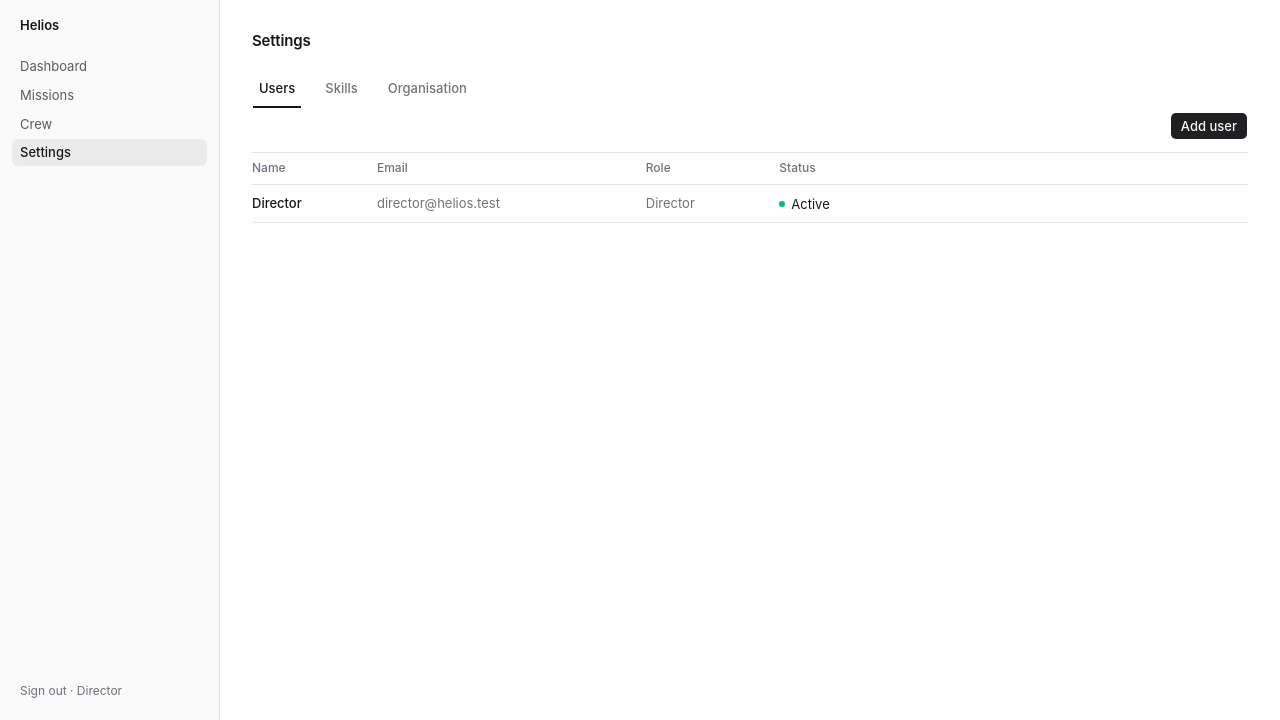
Test case: settings › shows a field-level validation error inline on the organisation tab
The width and height of the screenshot is (1280, 720).
Click the tab "Organisation" at [427, 88], box [381,72,474,104]
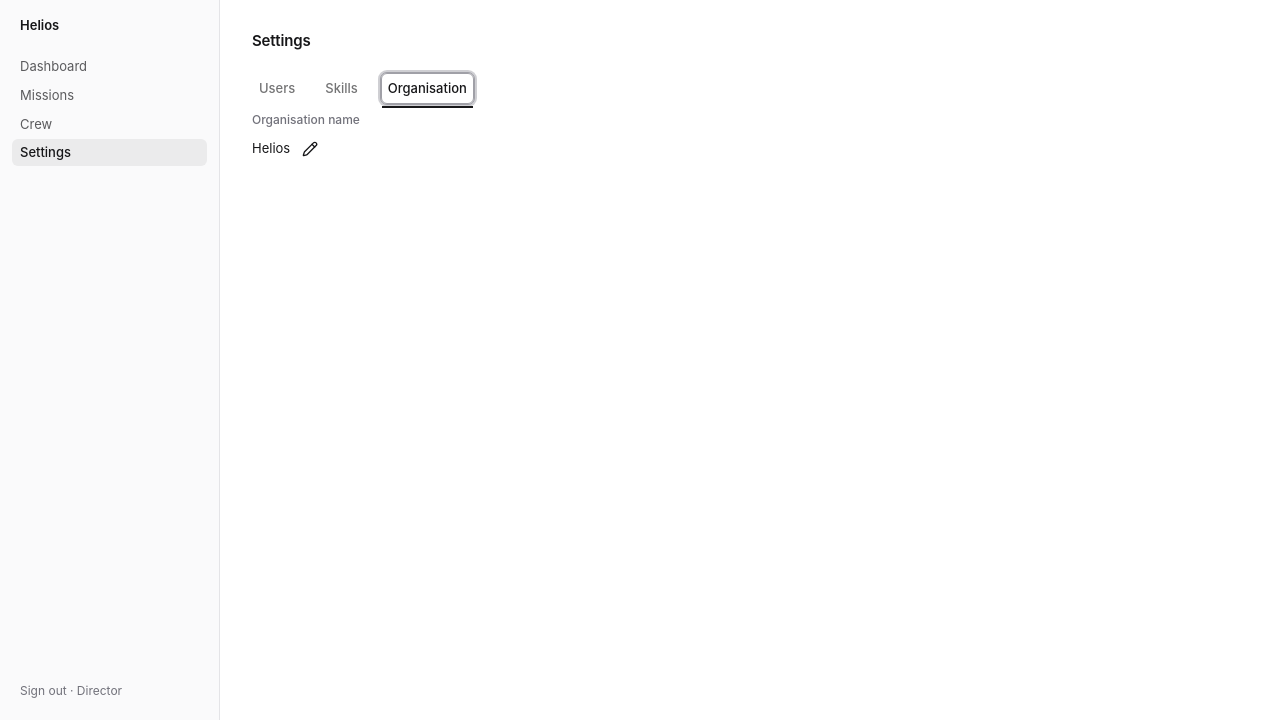
Click the button named "edit organisation name" at [310, 149], box [298,137,322,161]
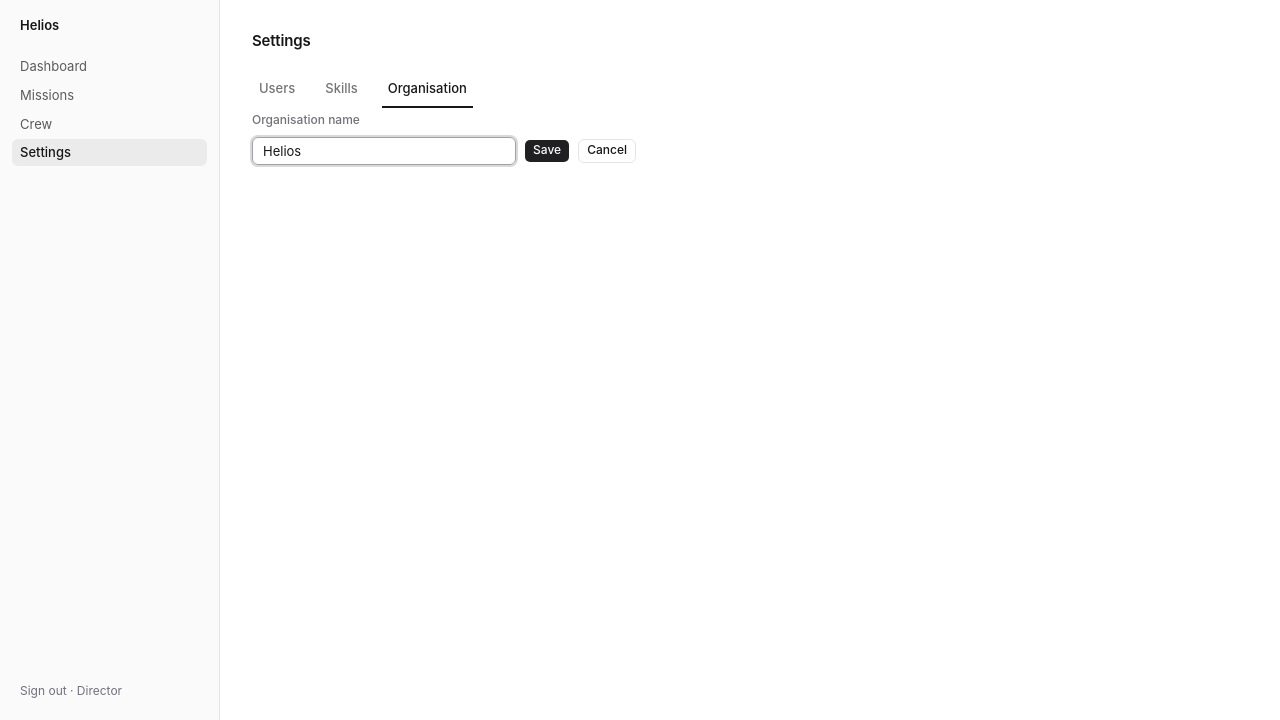
Click the button "Save" at [547, 151], box [524,139,570,163]
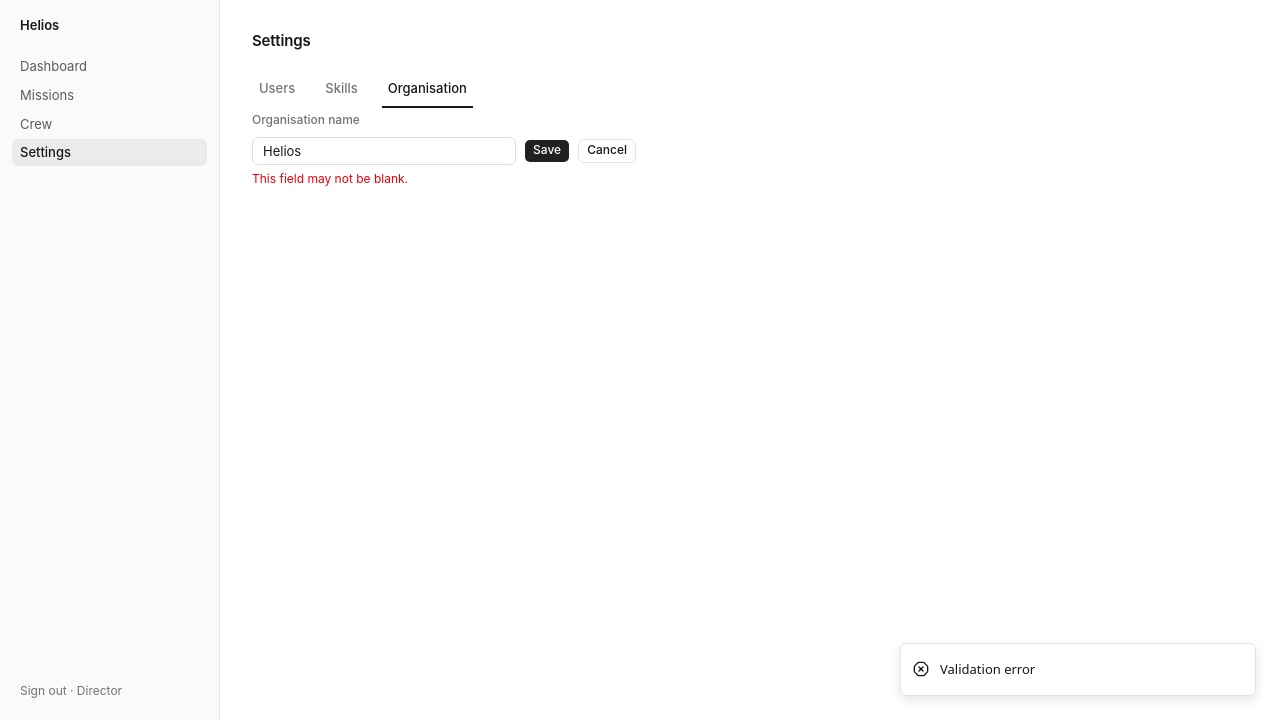
Expected: the text "This field may not be blank." is shown, [252,171,408,186]
